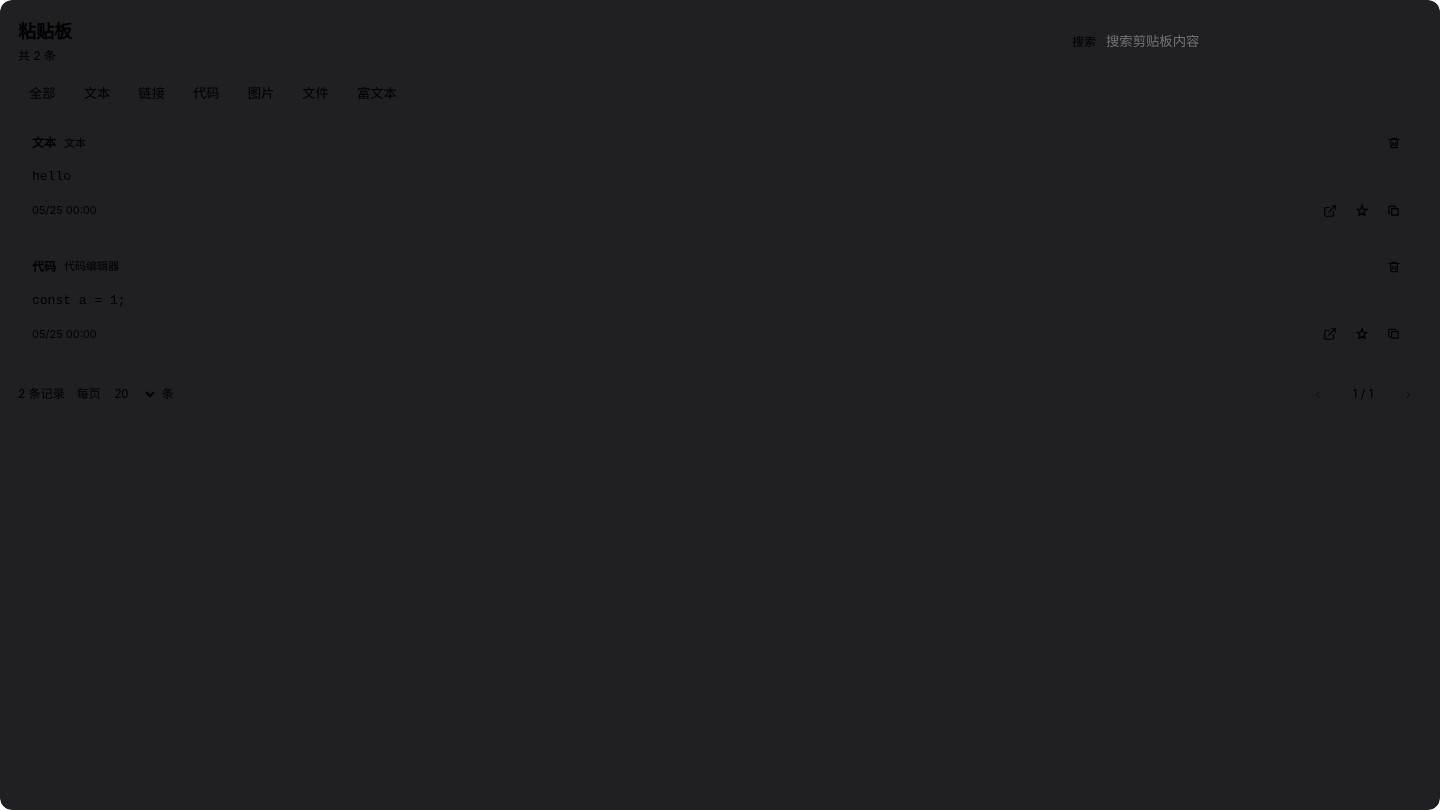
Test: ClipboardView › filters visible entries by type button
The width and height of the screenshot is (1440, 810).
Click the button with test id "clipboard-filter-code": {"x": 206, "y": 92} [182,77,231,107]
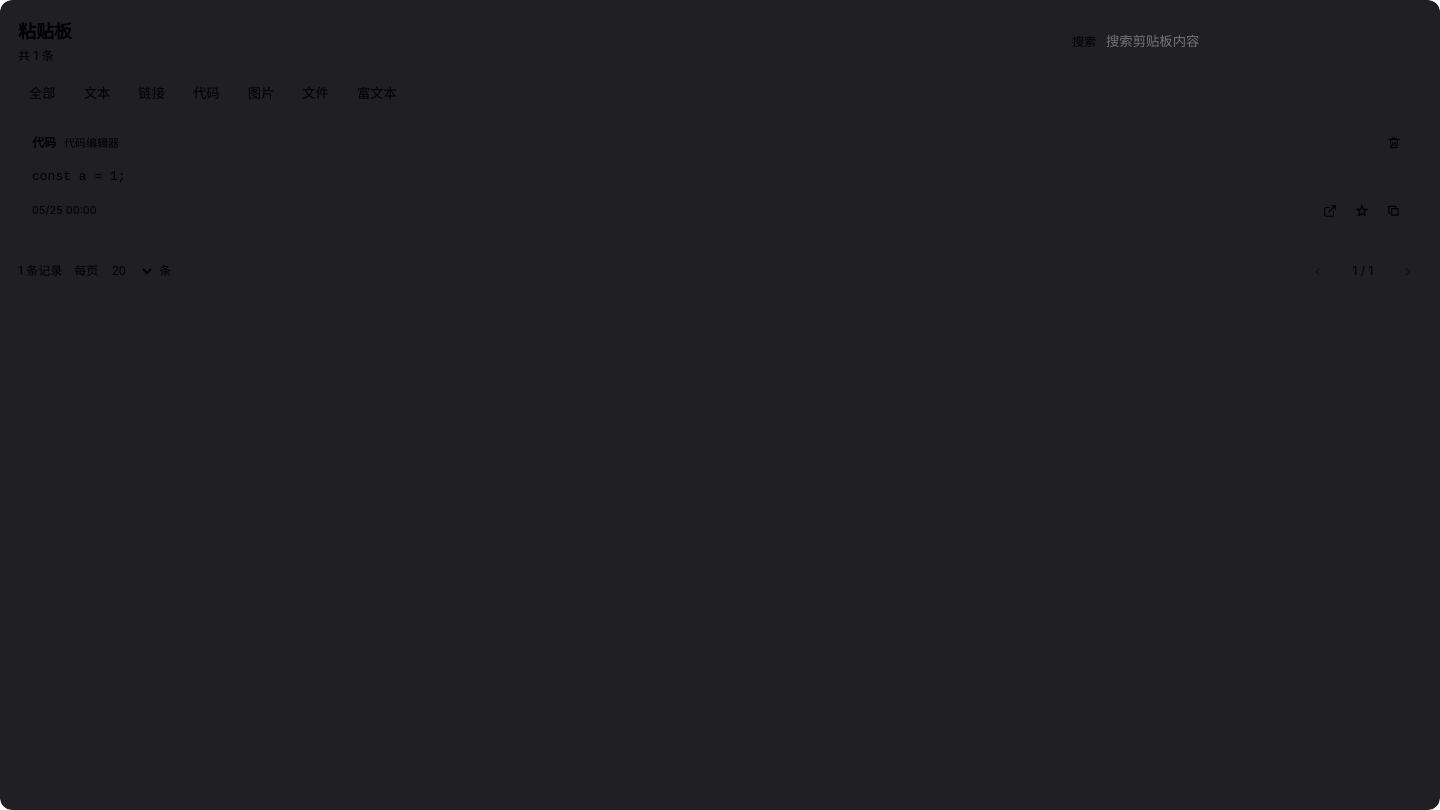
expect the text "const a = 1;" is shown: met, box [32,169,126,184]
expect the text "hello" is gone: met
